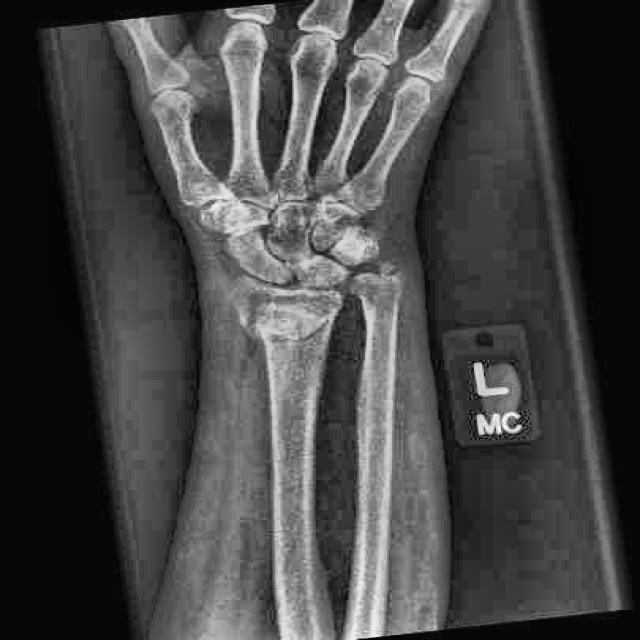wrist positive: (223, 308, 344, 364)
